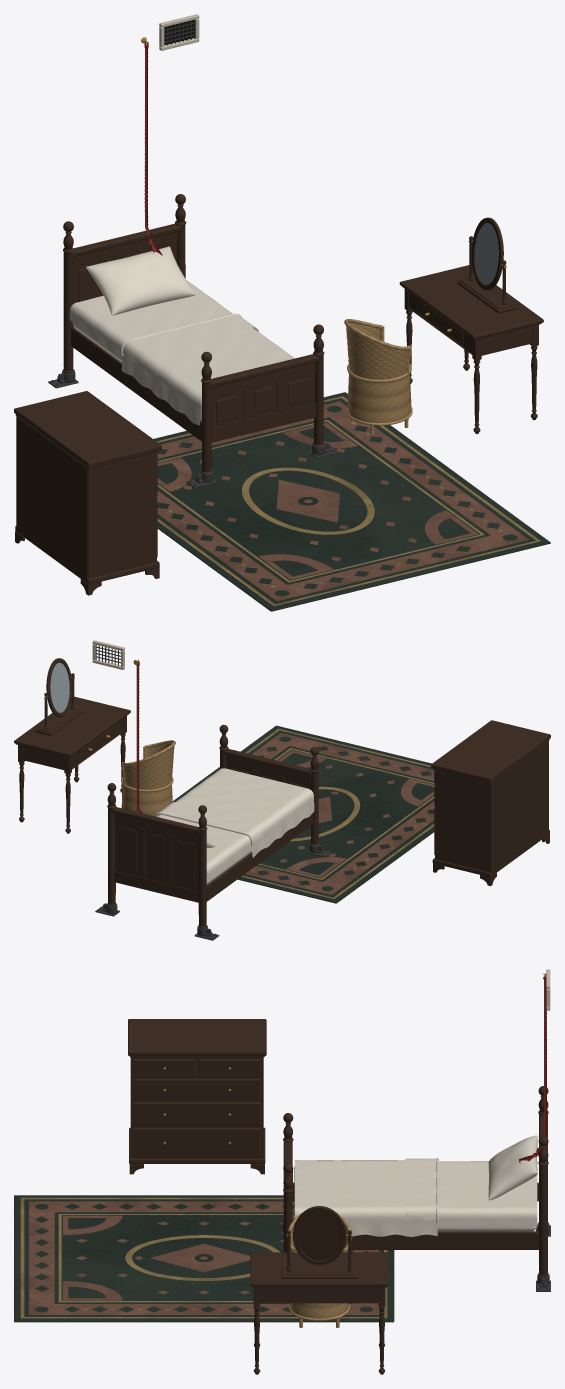
Rendered from bedroom.glb.
3 renders of one model, top to bottom at view 1: azimuth 30°, elevation 25°; view 2: azimuth 150°, elevation 25°; view 3: azimuth 270°, elevation 25°, orthographic. The views are drawn at different scales.
Visible parts, largest first — view 1: rug_base, rug_border, chest_back, chest_side_left, bed_counterpane, chest_top, bed_sheet, bed_pillow, dt_top, rug_spandrels, chair_skirt_weave, chair_back_weave (+18 smaller); view 2: rug_base, bed_counterpane, chest_back, chest_side_right, rug_border, chest_top, dt_top, bed, bed_sheet, chair_back_weave, bed_side_rail_left, bed_sheet_turnback (+22 smaller); view 3: rug_base, rug_border, bed_counterpane, chest_top, bed_sheet, drawer_4_front, dt_top, bed_side_rail_right, drawer_3_front, drawer_2_front, rug_outer_guard, bed_pillow (+19 smaller).
Part boxes in pixels (<box>): rug_base: <box>153,392,550,611</box>; rug_border: <box>157,401,528,601</box>; chest_back: <box>16,416,87,580</box>; chest_side_left: <box>87,452,156,578</box>; bed_counterpane: <box>121,327,294,425</box>; chest_top: <box>14,391,161,467</box>; bed_sheet: <box>69,280,232,358</box>; bed_pillow: <box>86,246,195,315</box>; dt_top: <box>399,265,543,339</box>; rug_spandrels: <box>157,422,478,579</box>; chair_skirt_weave: <box>347,374,411,422</box>; chair_back_weave: <box>346,322,408,379</box>; rug_base: <box>172,725,434,903</box>; bed_counterpane: <box>157,768,314,857</box>; chest_back: <box>491,741,548,874</box>; chest_side_right: <box>435,770,491,872</box>; rug_border: <box>245,733,434,894</box>; chest_top: <box>431,720,550,781</box>; dt_top: <box>14,696,130,756</box>; bed: <box>115,763,310,891</box>; bed_sheet: <box>156,814,251,880</box>; chair_back_weave: <box>123,743,174,789</box>; bed_side_rail_left: <box>206,813,312,901</box>; bed_sheet_turnback: <box>160,802,266,842</box>; rug_base: <box>14,1195,394,1322</box>; rug_border: <box>29,1201,379,1314</box>; bed_counterpane: <box>295,1160,437,1236</box>; chest_top: <box>128,1019,266,1055</box>; bed_sheet: <box>437,1161,537,1226</box>; drawer_4_front: <box>133,1128,260,1156</box>; dt_top: <box>250,1252,388,1286</box>; bed_side_rail_right: <box>351,1231,538,1249</box>; drawer_3_front: <box>133,1102,260,1125</box>; drawer_2_front: <box>133,1079,260,1099</box>; rug_outer_guard: <box>20,1197,387,1318</box>; bed_pillow: <box>488,1135,537,1200</box>.
Size of the model in its own units: 4.1 by 2.5 by 3.95.
Materials: 12 (3 with a texture image).
